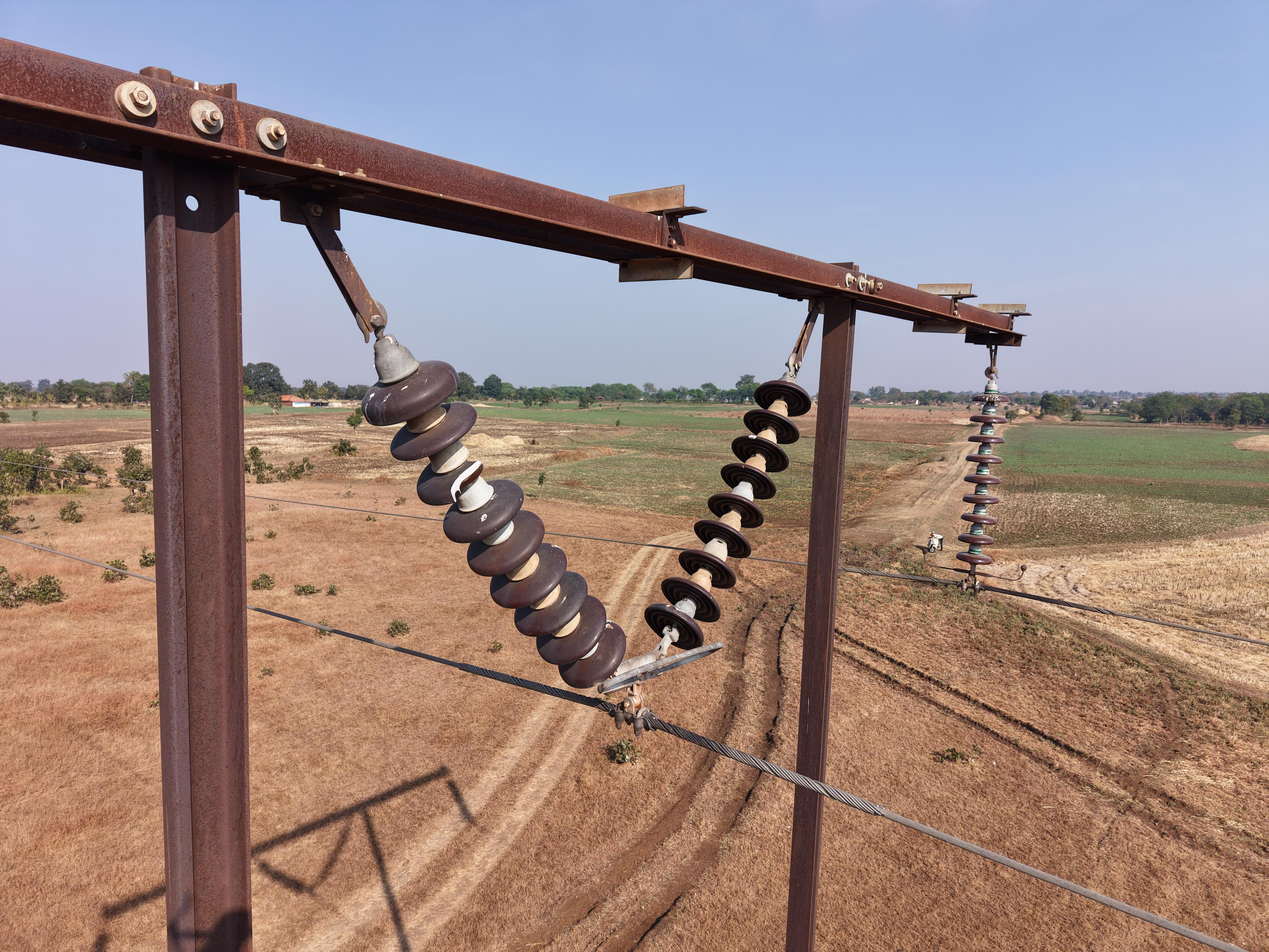broken_insulator: (417, 438, 515, 507)
